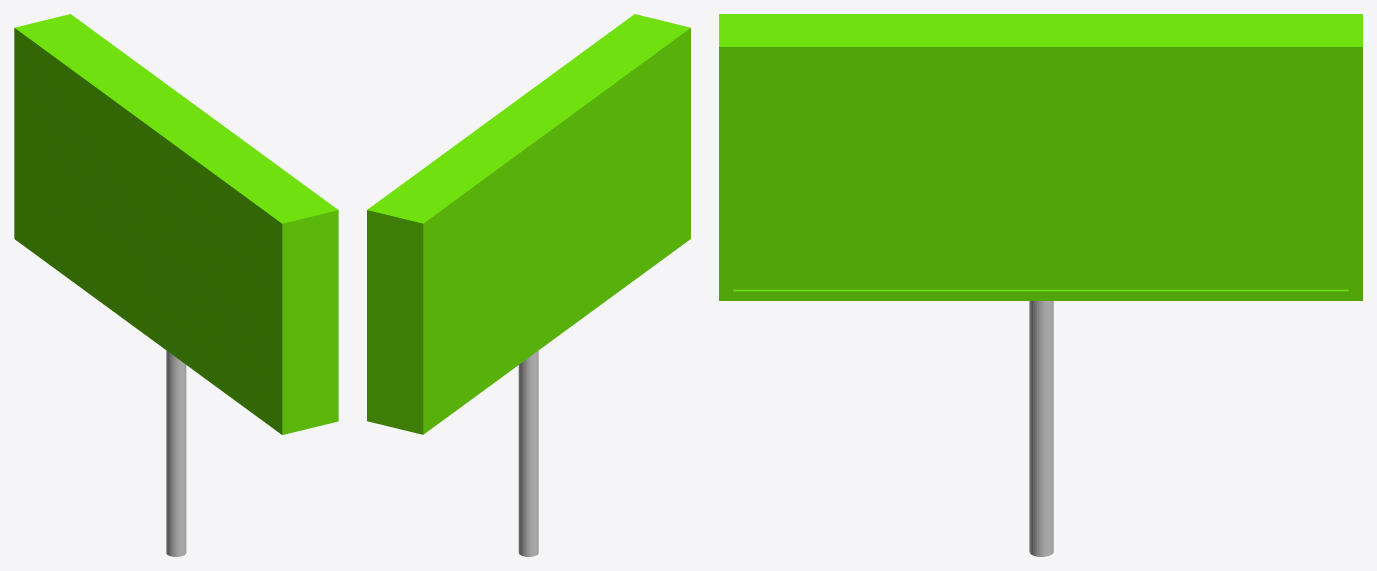
File: Stand.fbx
3 renders of one model, left to right at view 1: azimuth 30°, elevation 25°; view 2: azimuth 150°, elevation 25°; view 3: azimuth 270°, elevation 25°, orthographic. The views are drawn at different scales.
Visible parts, largest first — view 1: Cube, Cylinder; view 2: Cube, Cylinder; view 3: Cube, Cylinder.
Part boxes in pixels (<box>): Cube: <box>14,14,338,434</box>; Cylinder: <box>166,350,186,556</box>; Cube: <box>367,14,690,434</box>; Cylinder: <box>518,350,538,556</box>; Cube: <box>719,14,1362,300</box>; Cylinder: <box>1029,301,1053,556</box>.
Bounding box in the file's own units: 55.71 × 411 × 460.
